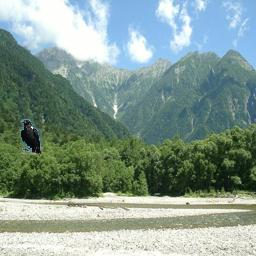Crow: (20, 119, 42, 155)
